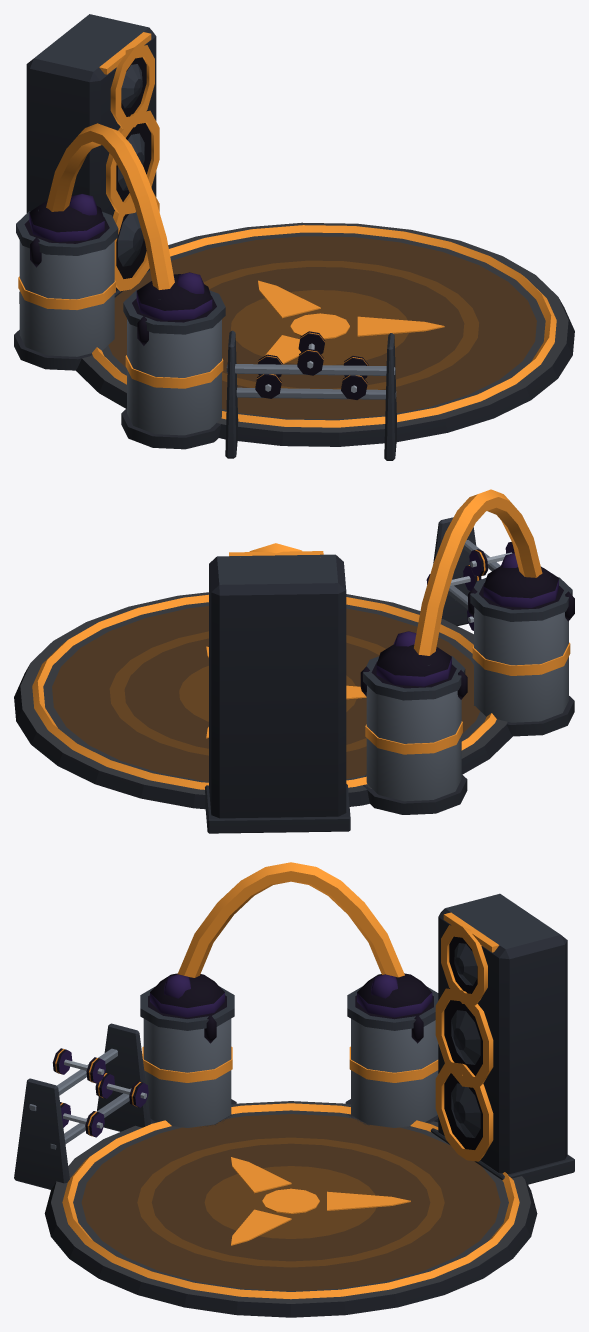
Rendered from train_5.glb.
3 views of the same model, one above another, from view 1: azimuth 30°, elevation 25°; view 2: azimuth 150°, elevation 25°; view 3: azimuth 270°, elevation 25° (orthographic). The views are drawn at different scales.
Visible parts, largest first — view 1: Body, Glow; view 2: Body, Glow; view 3: Body, Glow.
Part boxes in pixels (x1,y1,x2,y2): Body: (14, 14, 574, 460); Glow: (18, 32, 556, 427); Body: (14, 517, 574, 833); Glow: (32, 489, 570, 789); Body: (14, 893, 574, 1317); Glow: (62, 862, 519, 1299).
Size of the model in its own units: 3.39 by 1.82 by 3.66.
